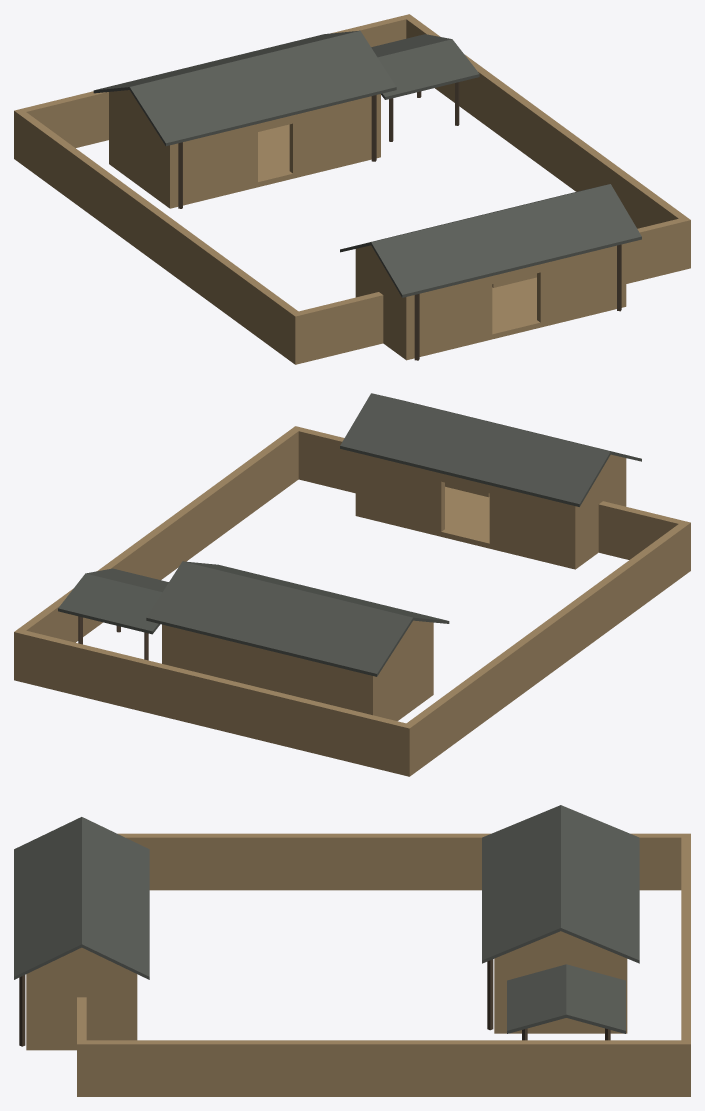
File: wall-house-LOD2.glb
3 views of the same model, one above another, from view 1: azimuth 30°, elevation 25°; view 2: azimuth 150°, elevation 25°; view 3: azimuth 270°, elevation 25° (orthographic). The views are drawn at different scales.
Parts seen in each view (by area): view 1: wall-house_earth, wall-house_tile, wall-house_timber; view 2: wall-house_earth, wall-house_tile; view 3: wall-house_earth, wall-house_tile, wall-house_timber.
Boxes of the visible parts, <box> form: wall-house_earth: <box>14,14,690,364</box>; wall-house_tile: <box>93,30,641,297</box>; wall-house_timber: <box>178,82,621,360</box>; wall-house_earth: <box>14,426,690,776</box>; wall-house_tile: <box>58,393,641,676</box>; wall-house_earth: <box>26,833,690,1096</box>; wall-house_tile: <box>14,805,639,1033</box>; wall-house_timber: <box>19,959,610,1046</box>.
Size of the model in its own units: 18 by 4.43 by 24.45.
